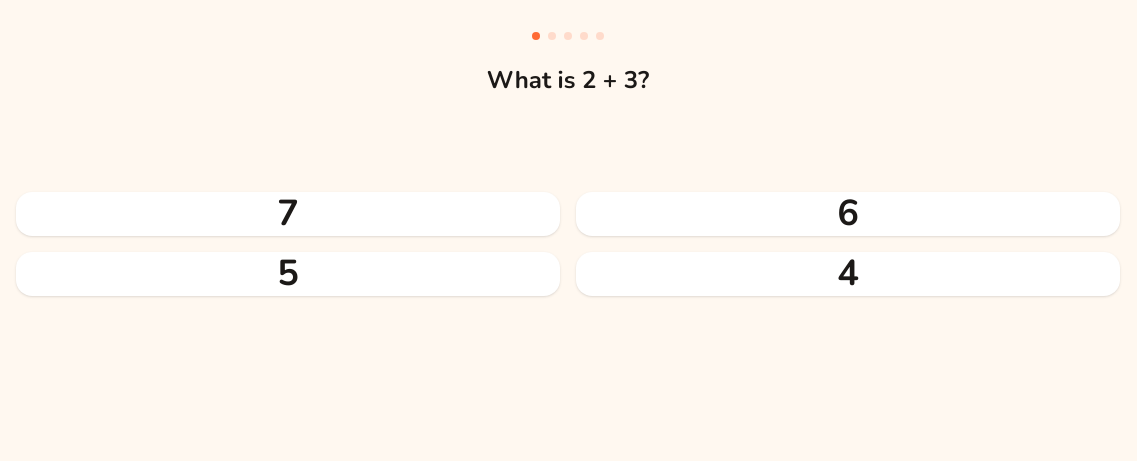
Test case: FEED-04: ConfettiScreen after last problem › shows ConfettiScreen with Back to Home button after all problems answered
Click the button "5" at (288, 274), box [16,252,560,296]
Wait 201 ms
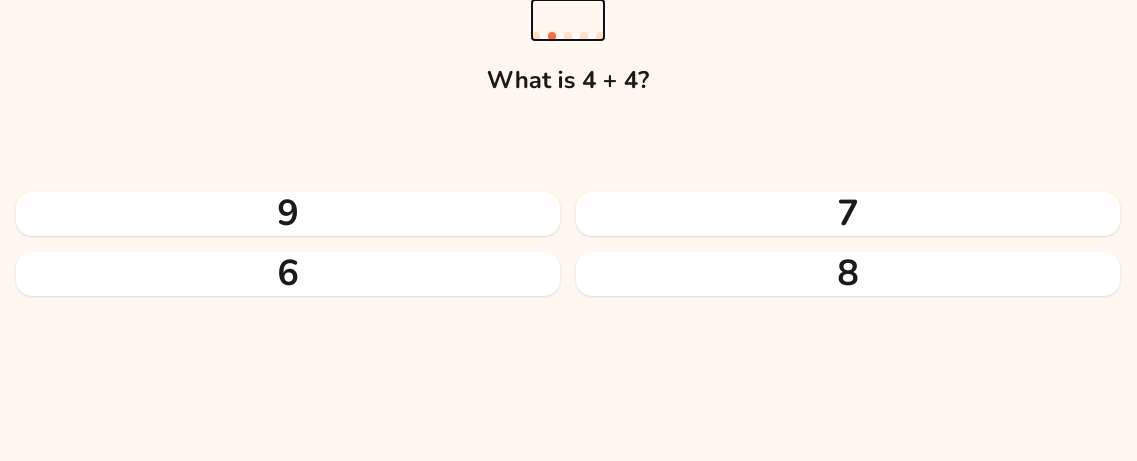
Click the button "8" at (848, 274), box [576,252,1120,296]
Wait 201 ms
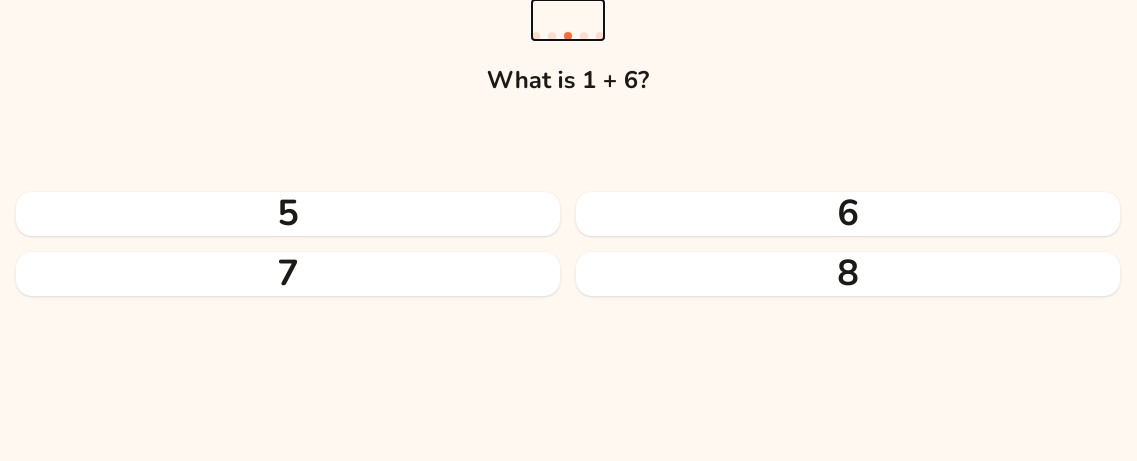
Click the button "7" at (288, 274), box [16,252,560,296]
Wait 201 ms
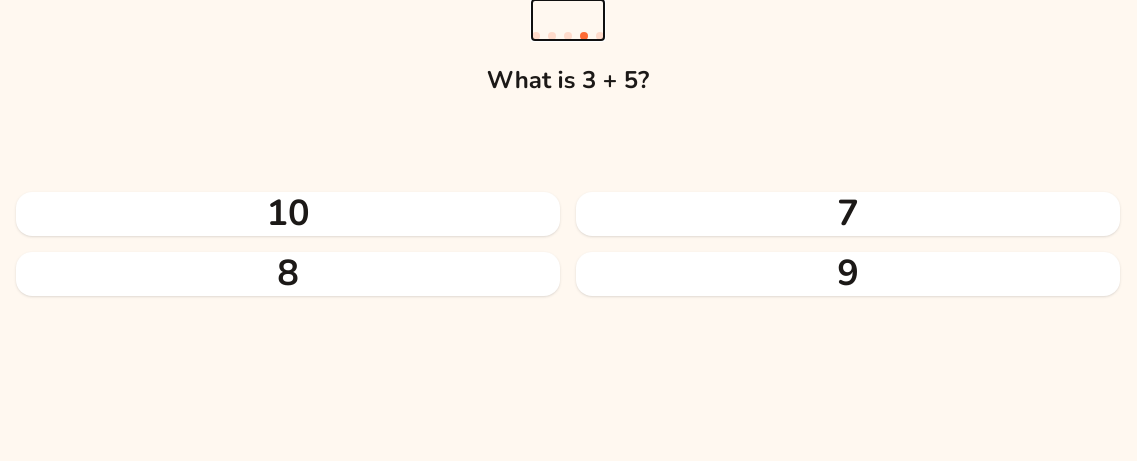
Click the button "8" at (288, 274), box [16,252,560,296]
Wait 201 ms
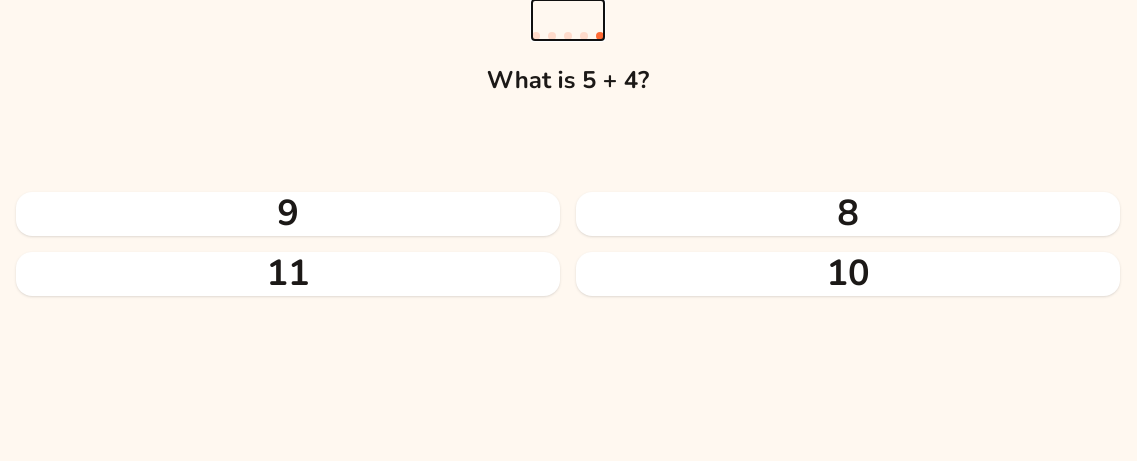
Click the button "9" at (288, 214), box [16,192,560,236]
Wait 201 ms
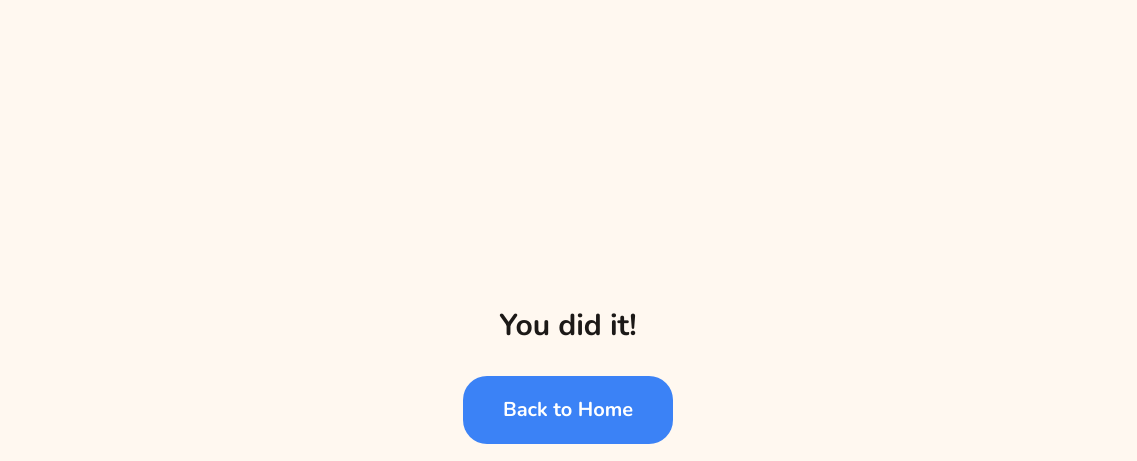
Expected: the heading "You did it!" is shown, [499,308,637,344]
Expected: the button "Back to Home" is shown, [463,376,673,444]
